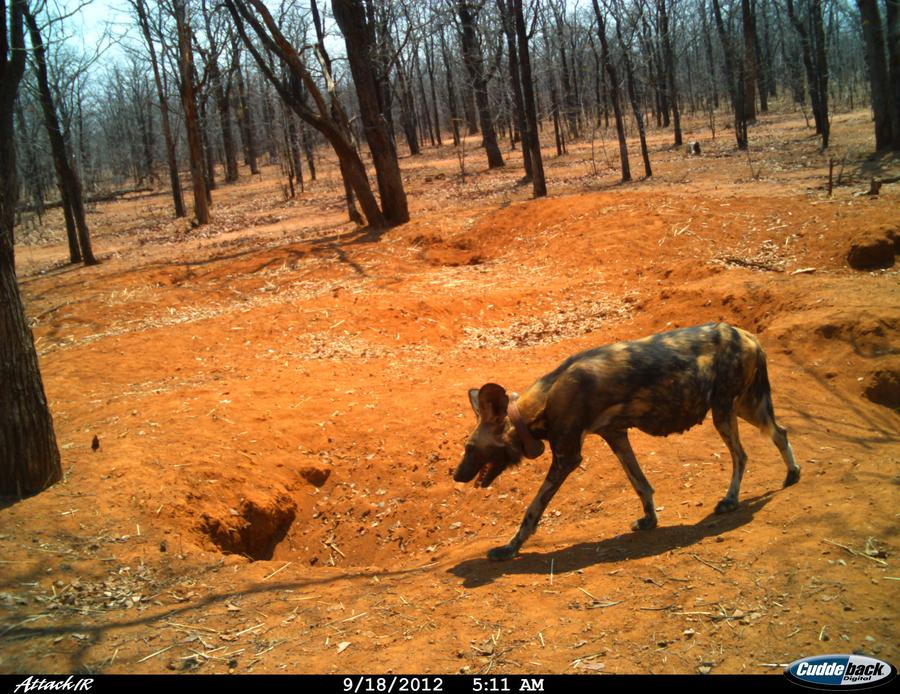wilddog: (461, 305, 793, 531)
